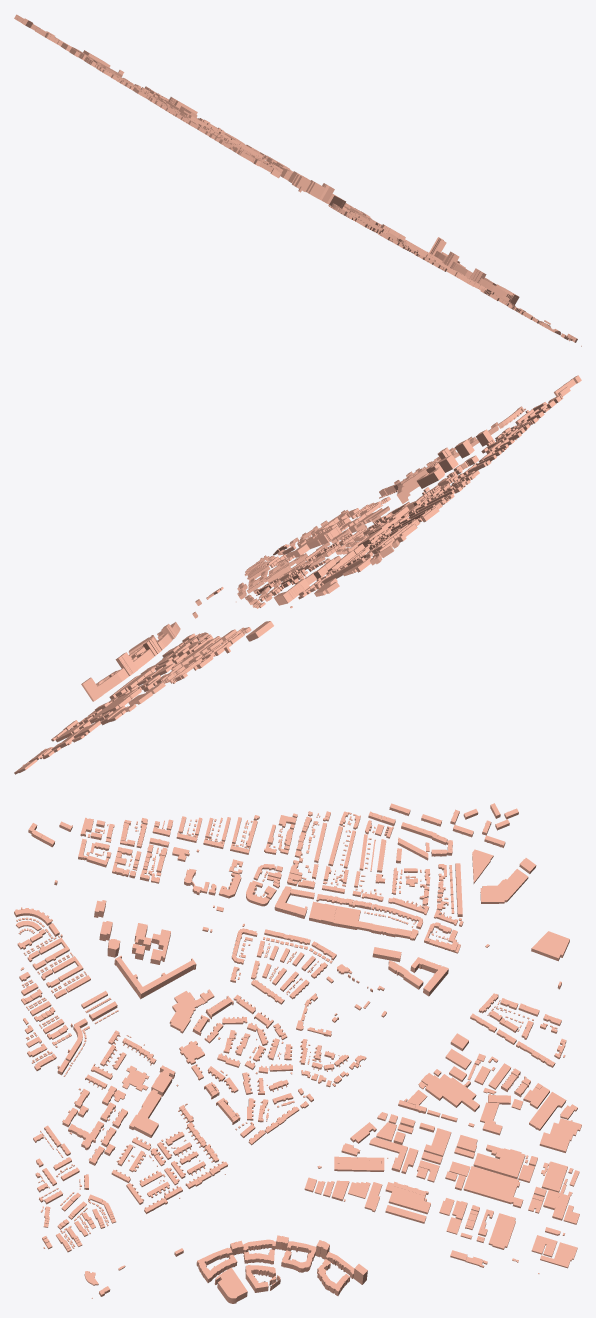
3 views of the same model, one above another, from view 1: azimuth 30°, elevation 25°; view 2: azimuth 150°, elevation 25°; view 3: azimuth 270°, elevation 25° (orthographic). The views are drawn at different scales.
Size of the model in its own units: 1034 by 762 by 1263.
